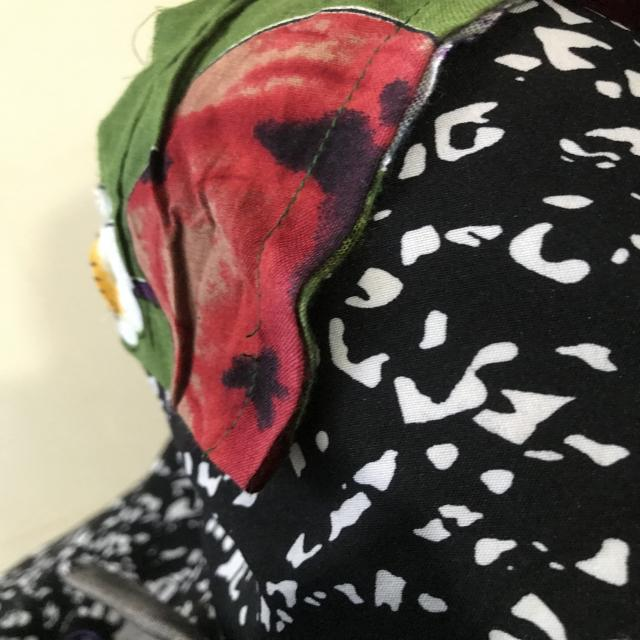broken: (229, 319, 287, 371)
